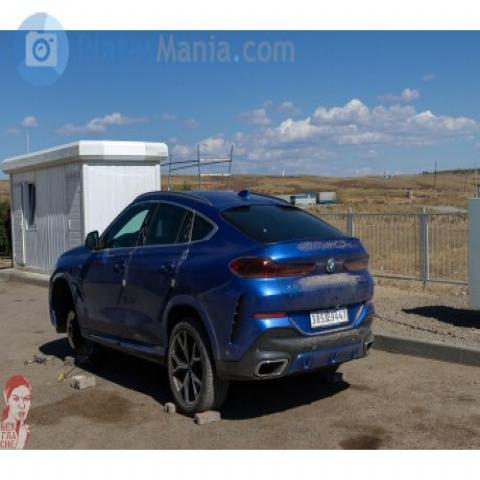LP: (307, 303, 352, 332)
